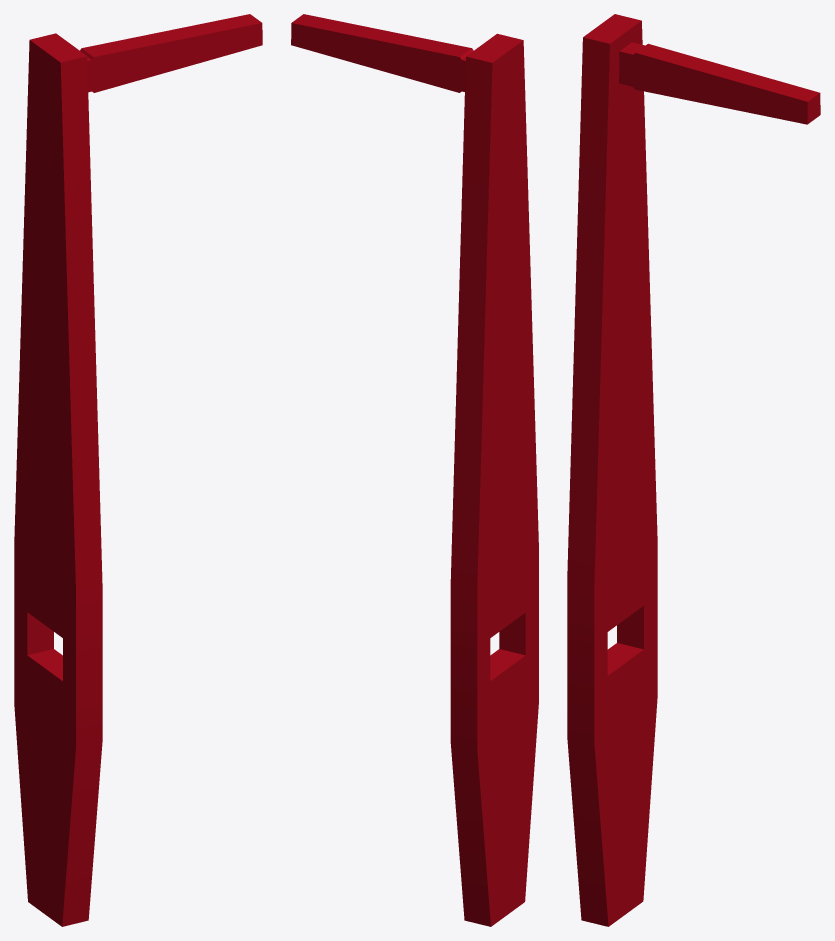
File: spiralJack_Lever.fbx
3 views of the same model, side by side, from view 1: azimuth 30°, elevation 25°; view 2: azimuth 150°, elevation 25°; view 3: azimuth 330°, elevation 25° (orthographic). The views are drawn at different scales.
Visible parts, largest first — view 1: pCube2; view 2: pCube2; view 3: pCube2.
Boxes of the visible parts, x1,y1,x2,y2 form: pCube2: (14, 14, 262, 926); pCube2: (291, 14, 538, 926); pCube2: (567, 14, 820, 926).
Bounding box in the file's own units: 1.39 × 5.46 × 0.7073.
